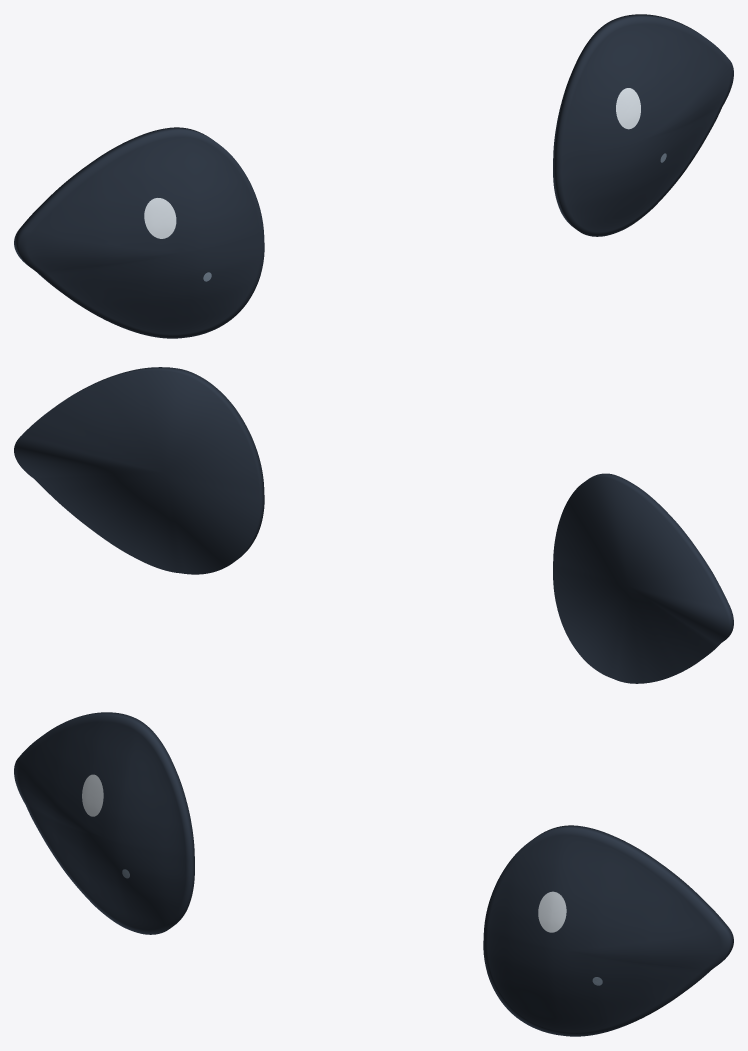
The model's file is Masculine-eyes-tapered.glb.
3 renders of one model, top to bottom at view 1: azimuth 30°, elevation 25°; view 2: azimuth 150°, elevation 25°; view 3: azimuth 330°, elevation 25°, orthographic.
Visible parts, largest first — view 1: 226 eyes / Eye / smoky charcoal181, 226 eyes / Eye highlight181; view 2: 226 eyes / Eye / smoky charcoal181; view 3: 226 eyes / Eye / smoky charcoal181, 226 eyes / Eye highlight181.
Boxes of the visible parts, x1,y1,x2,y2 form: 226 eyes / Eye / smoky charcoal181: (14,14,733,338); 226 eyes / Eye highlight181: (144,88,640,238); 226 eyes / Eye / smoky charcoal181: (14,367,733,683); 226 eyes / Eye / smoky charcoal181: (14,712,733,1036); 226 eyes / Eye highlight181: (82,774,566,932).
Bounding box in the file's own units: 0.4625 × 0.1261 × 0.0489.
